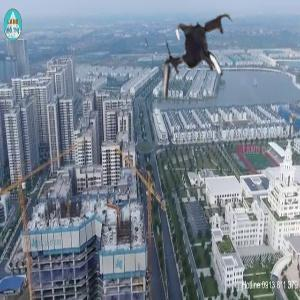drone: (151, 3, 245, 97)
